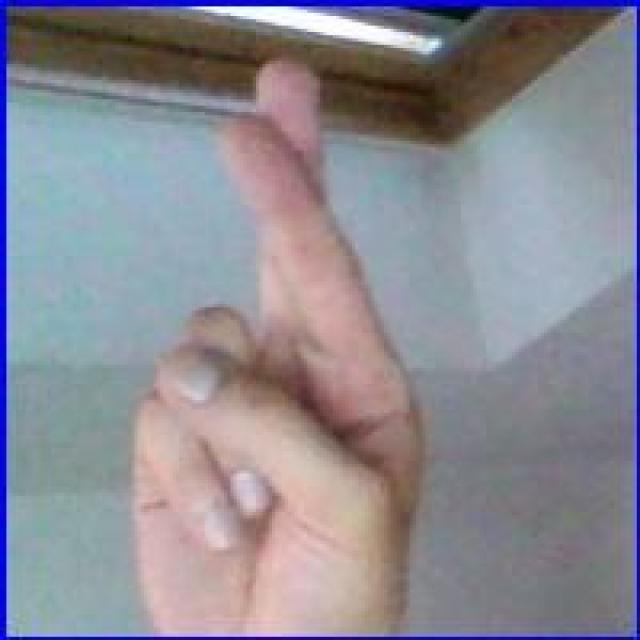R: (124, 56, 430, 632)
